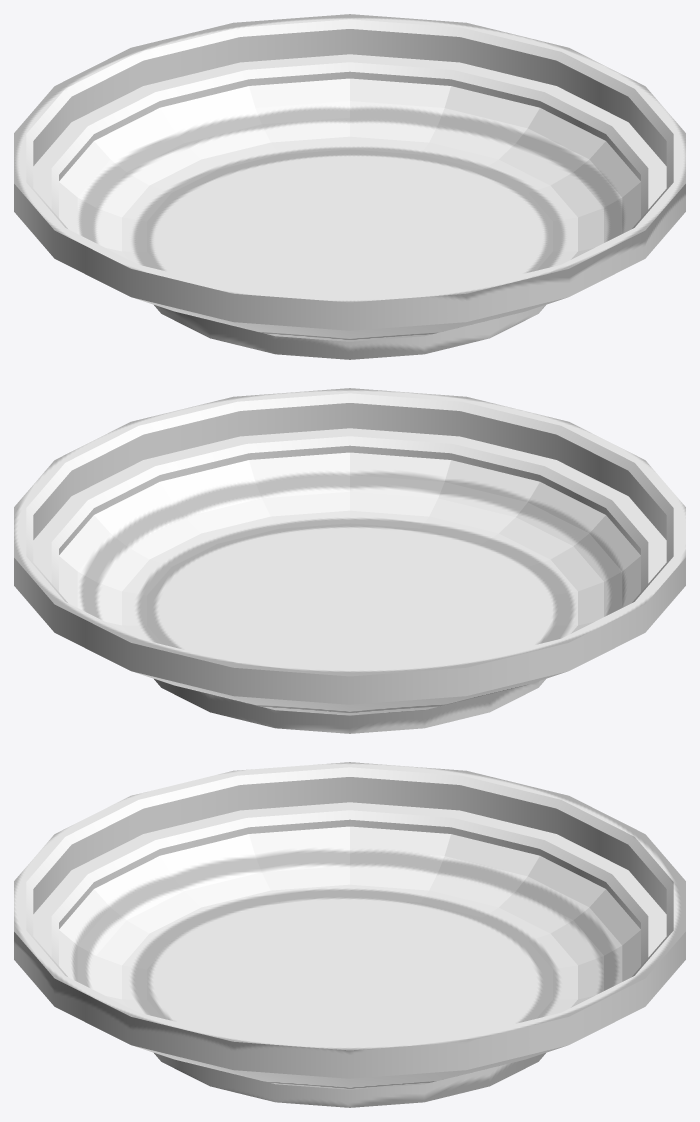
Rendered from Plate.FBX.
3 views of the same model, one above another, from view 1: azimuth 30°, elevation 25°; view 2: azimuth 150°, elevation 25°; view 3: azimuth 270°, elevation 25° (orthographic).
Visible parts, largest first — view 1: Plate; view 2: Plate; view 3: Plate.
Boxes of the visible parts, box(x1,y1,x2,y2) form: Plate: box(14, 14, 685, 359); Plate: box(14, 388, 685, 733); Plate: box(14, 762, 685, 1107).
Size of the model in its own units: 3451 by 611 by 3398.
1 material, 1 textured.
